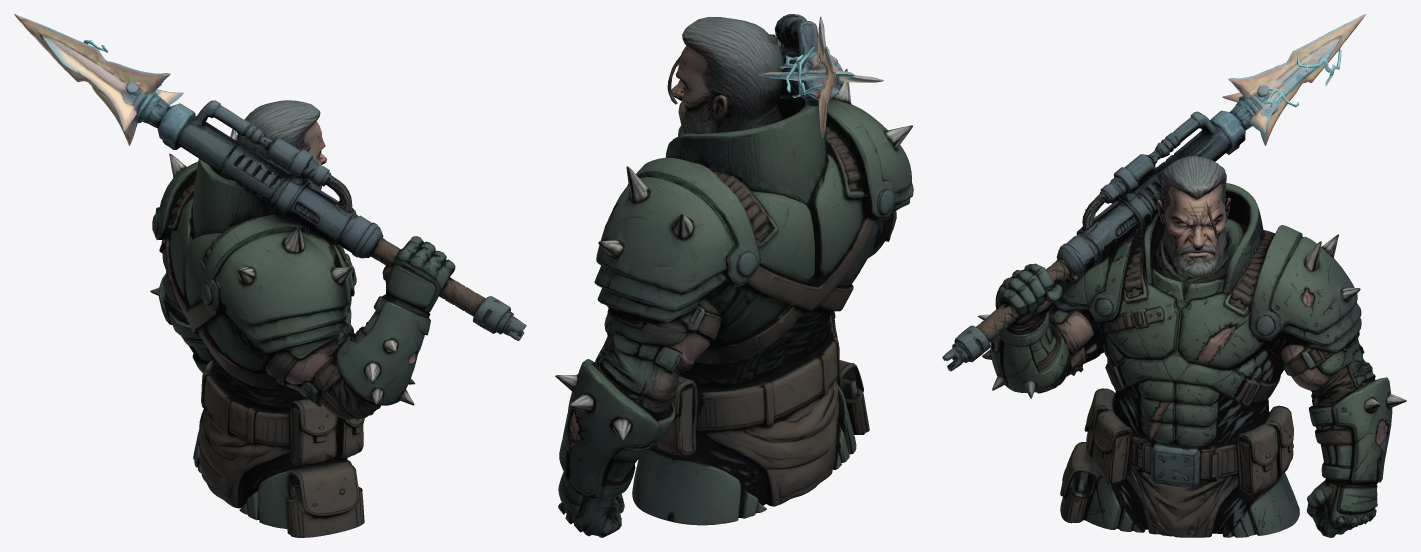
The model's file is warlance_bust.glb.
3 renders of one model, left to right at view 1: azimuth 30°, elevation 25°; view 2: azimuth 150°, elevation 25°; view 3: azimuth 270°, elevation 25°, orthographic. The views are drawn at different scales.
Parts seen in each view (by area): view 1: tripo_node_483544a8-1292-4f68-aaac-8a7c09036973; view 2: tripo_node_483544a8-1292-4f68-aaac-8a7c09036973; view 3: tripo_node_483544a8-1292-4f68-aaac-8a7c09036973.
Boxes of the visible parts, x1=… form: tripo_node_483544a8-1292-4f68-aaac-8a7c09036973: x1=14, y1=14, x2=526, y2=537; tripo_node_483544a8-1292-4f68-aaac-8a7c09036973: x1=555, y1=14, x2=913, y2=537; tripo_node_483544a8-1292-4f68-aaac-8a7c09036973: x1=942, y1=14, x2=1406, y2=537.
Size of the model in its own units: 0.691 by 0.9981 by 1.
1 material, 1 textured.
